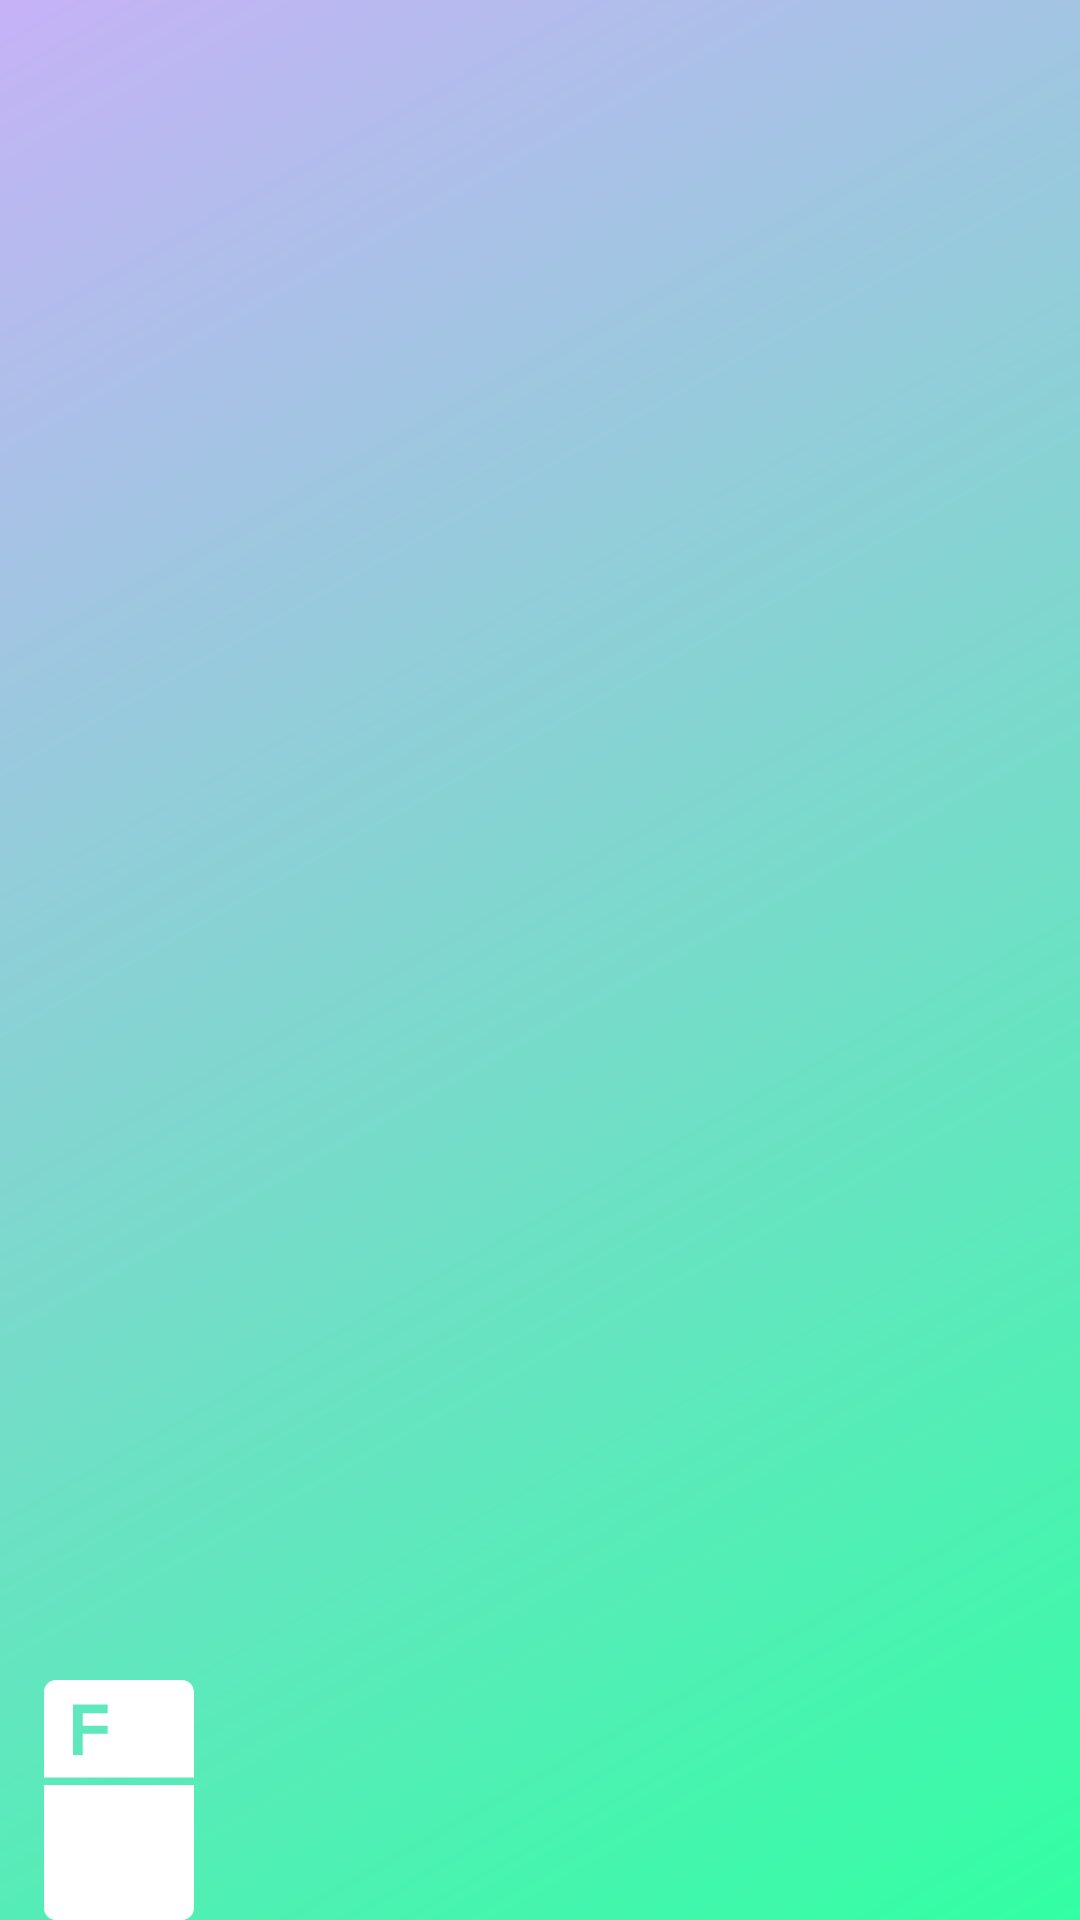

Where to tap for icons on this 1080 × 1920 app screen, as (x,y):
fridgeticon: (119,1800)
